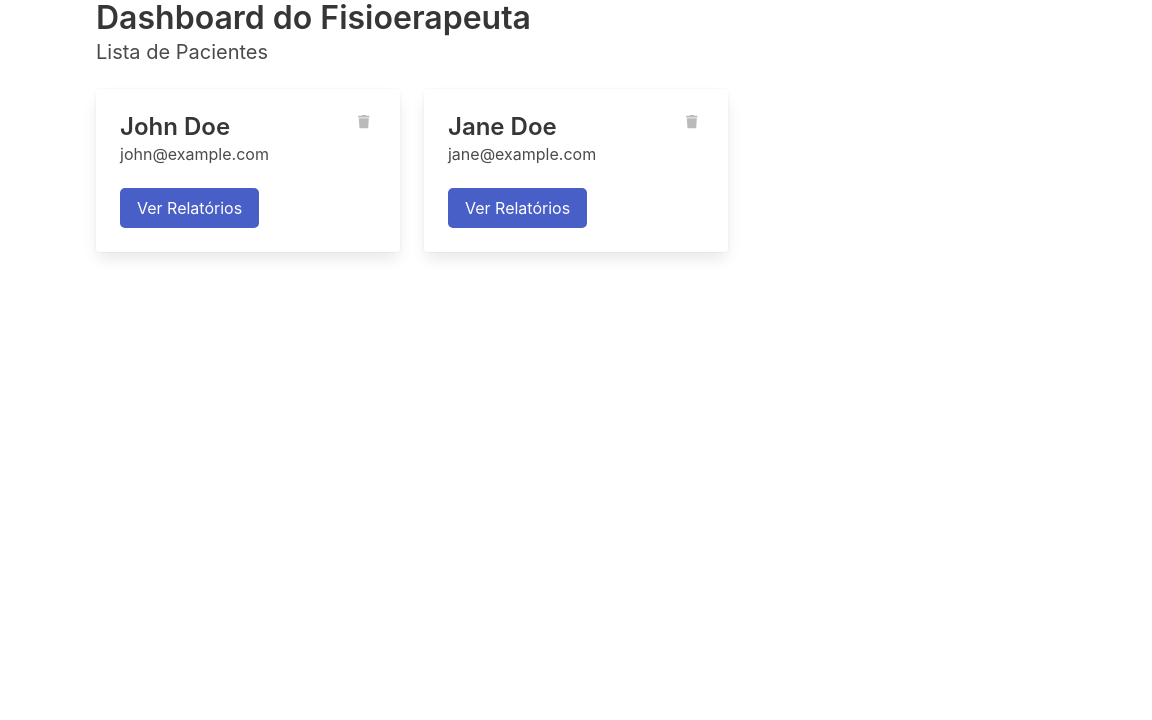
Scenario: PatientList › clicking delete button opens confirmation modal
Step 1. Click the 1st button named "delete patient" → (364,122), box [352,113,376,131]
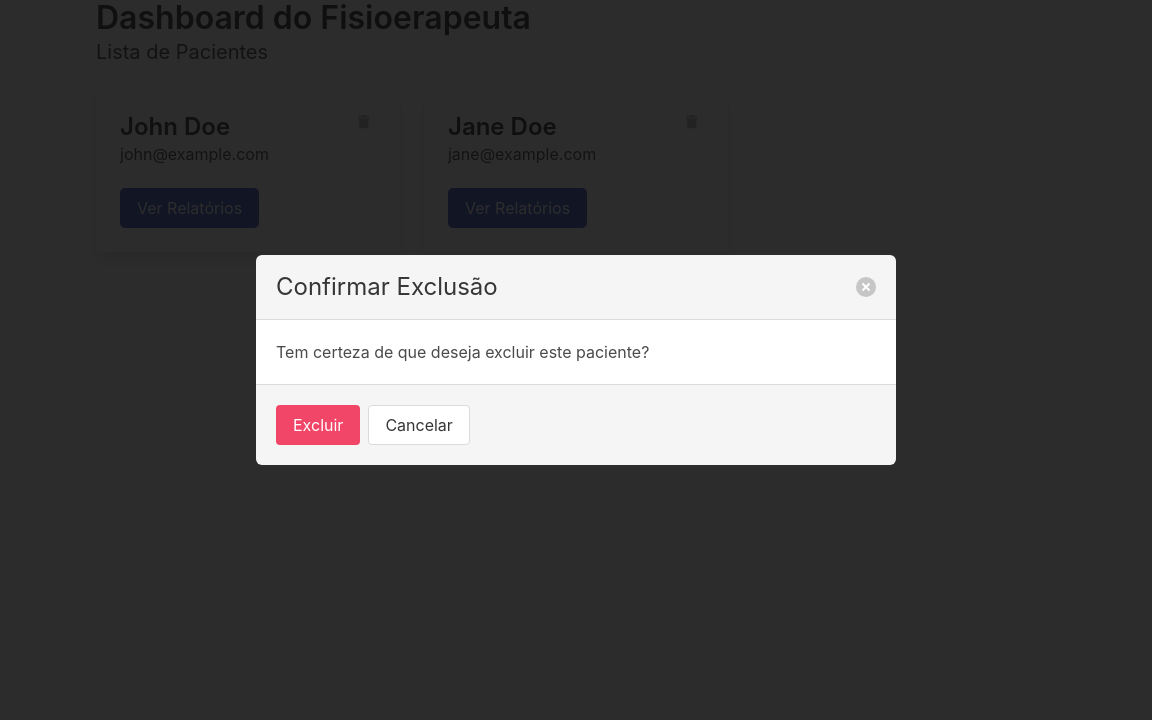
Expected: the text "Tem certeza de que deseja excluir este paciente?" is shown, [276,342,649,362]
